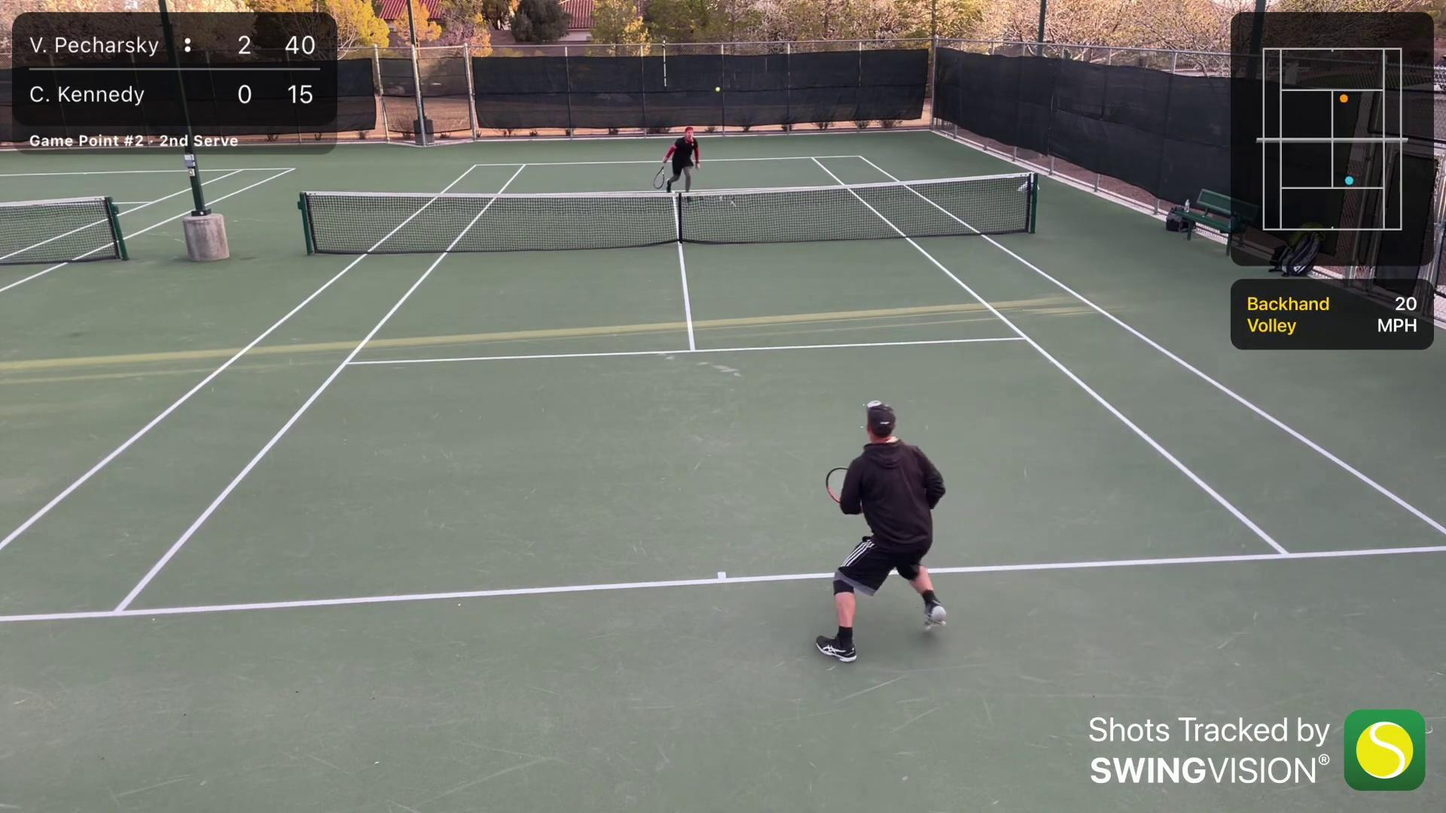ball: (714, 86, 721, 93)
